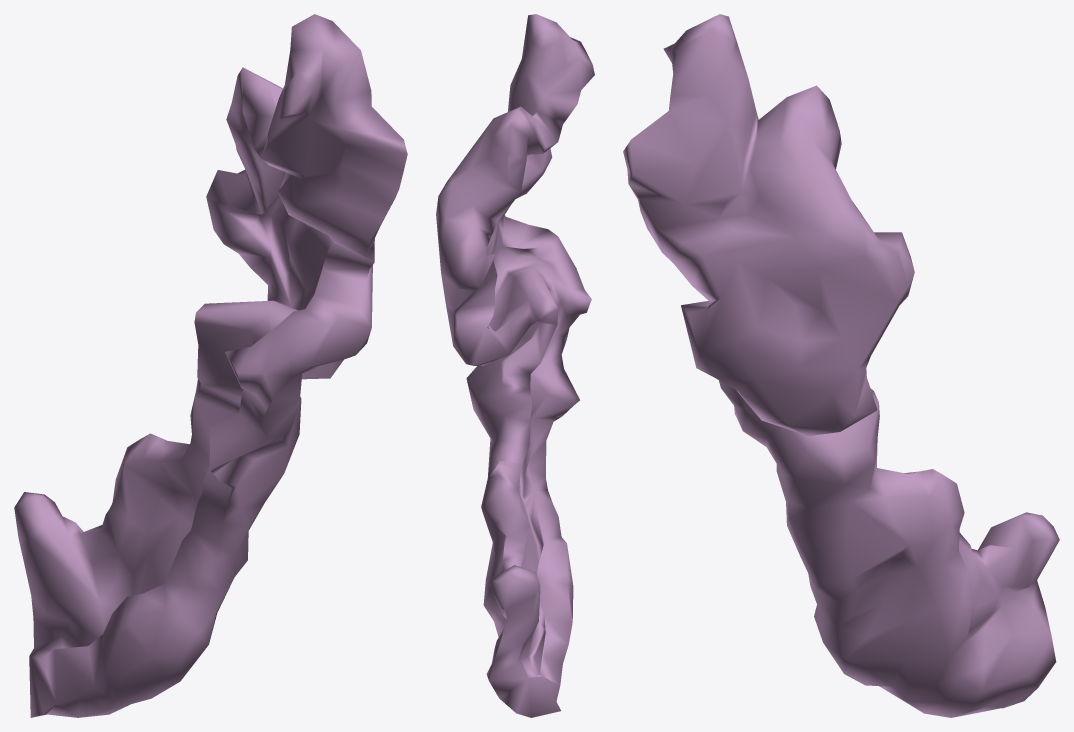
3 views of the same model, side by side, from view 1: azimuth 30°, elevation 25°; view 2: azimuth 150°, elevation 25°; view 3: azimuth 270°, elevation 25° (orthographic). The views are drawn at different scales.
Parts seen in each view (by area): view 1: 左侧颞上回外侧部; view 2: 左侧颞上回外侧部; view 3: 左侧颞上回外侧部.
Part boxes in pixels (x1,y1,x2,y2): 左侧颞上回外侧部: [14, 14, 407, 717]; 左侧颞上回外侧部: [436, 14, 594, 717]; 左侧颞上回外侧部: [623, 14, 1059, 717].
Size of the model in its own units: 0.0374 by 0.1213 by 0.0631.
